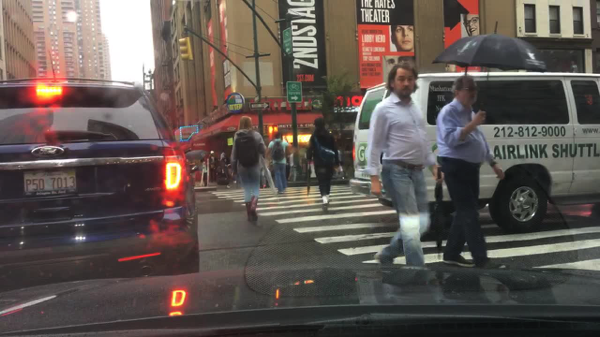car: (0, 46, 199, 292), (346, 71, 600, 235)
person: (432, 18, 549, 270), (365, 64, 447, 268), (231, 114, 275, 222), (302, 118, 345, 210), (268, 133, 290, 196), (201, 158, 210, 187), (220, 152, 228, 184), (208, 150, 216, 180)
traffic light: (177, 37, 194, 62), (267, 125, 277, 134)
traffic sign: (287, 81, 302, 103), (282, 27, 294, 53), (250, 103, 269, 108)
